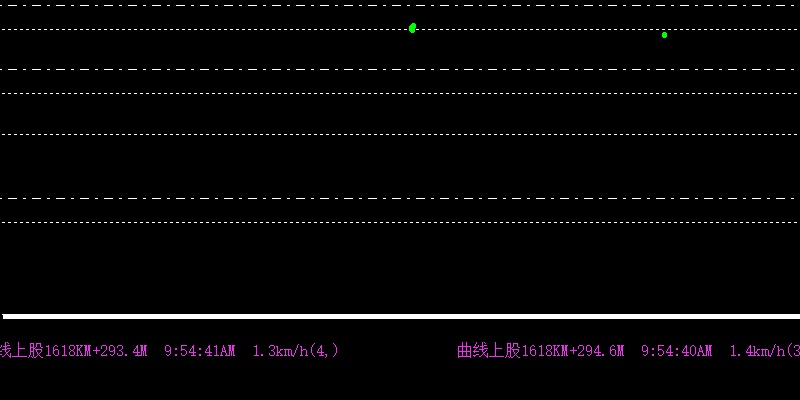face_1: (406, 21, 417, 37)
